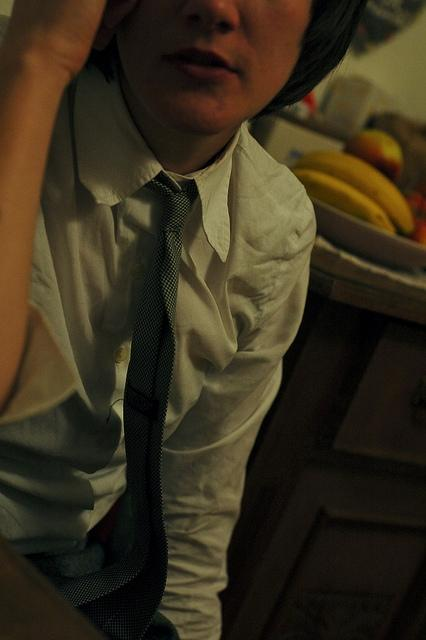banana: (295, 149, 415, 236), (288, 166, 395, 232)
